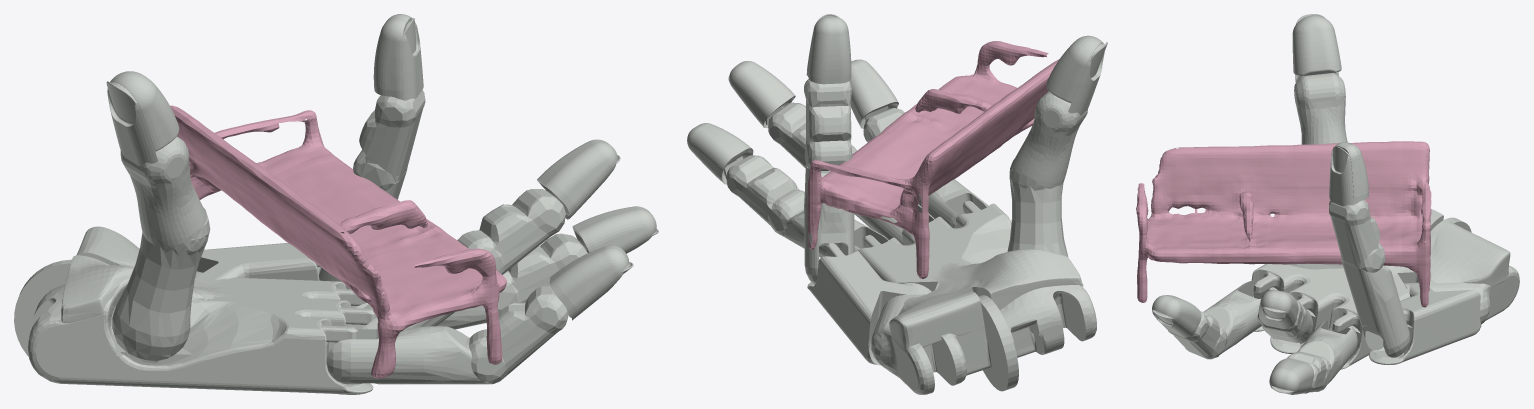
3 renders of one model, left to right at view 1: azimuth 30°, elevation 25°; view 2: azimuth 150°, elevation 25°; view 3: azimuth 270°, elevation 25°, orthographic. The views are drawn at different scales.
Parts seen in each view (by area): view 1: hand_isaac_q, world; view 2: hand_isaac_q, world; view 3: hand_isaac_q, world.
Boxes of the visible parts, x1,y1,x2,y2 form: hand_isaac_q: (14,14,658,394); world: (170,105,506,378); hand_isaac_q: (687,14,1107,394); world: (807,41,1059,278); hand_isaac_q: (1152,14,1519,394); world: (1136,141,1431,307).
Bounding box in the file's own units: 0.2122 × 0.1336 × 0.1705.
